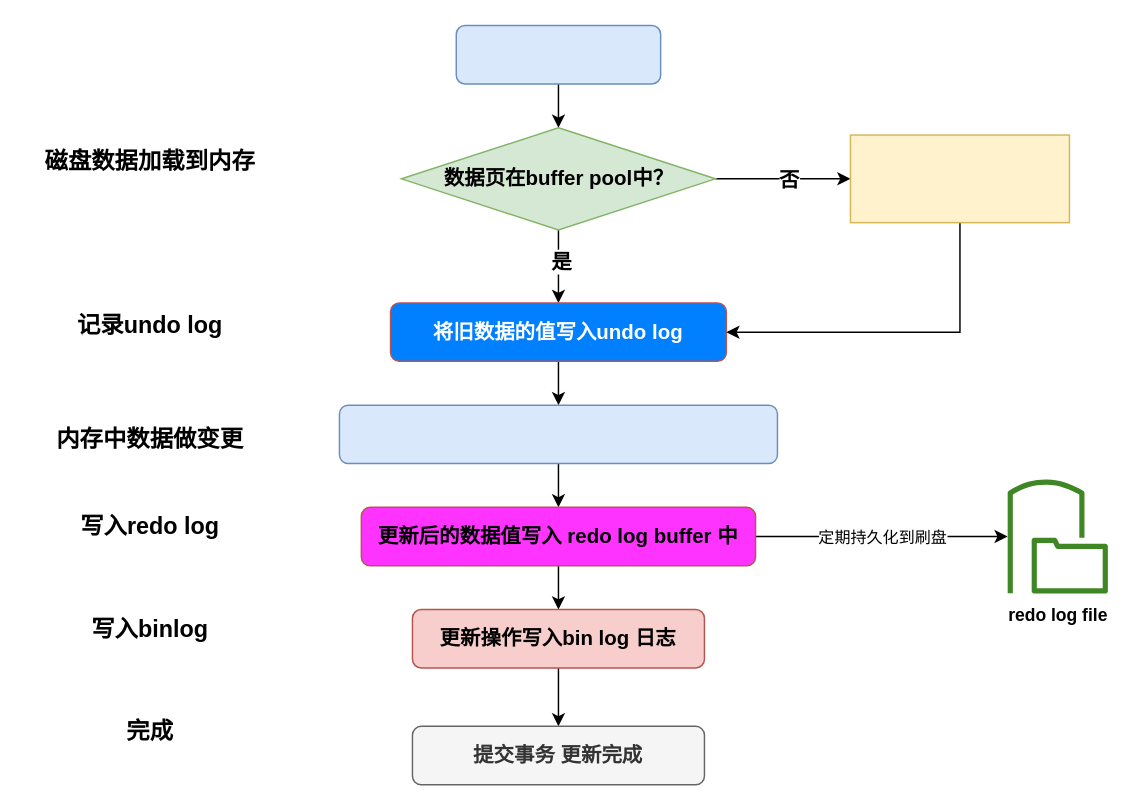
Some shapes in this 1148 by 810 pixel diagram are drawn without their labels. The shapes that lost their labels are listed below. From the top down, each one's box as (x1, y1, x2, y2) in pixels, then its label:
(455, 24, 661, 84): 开始事务
(849, 134, 1069, 223): 从磁盘加载数据到内存(buffer pool)
(338, 404, 777, 464): 更新内存(buffer pool)中的数据
